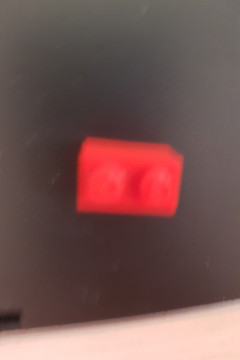1x2 red: (75, 136, 184, 218)
